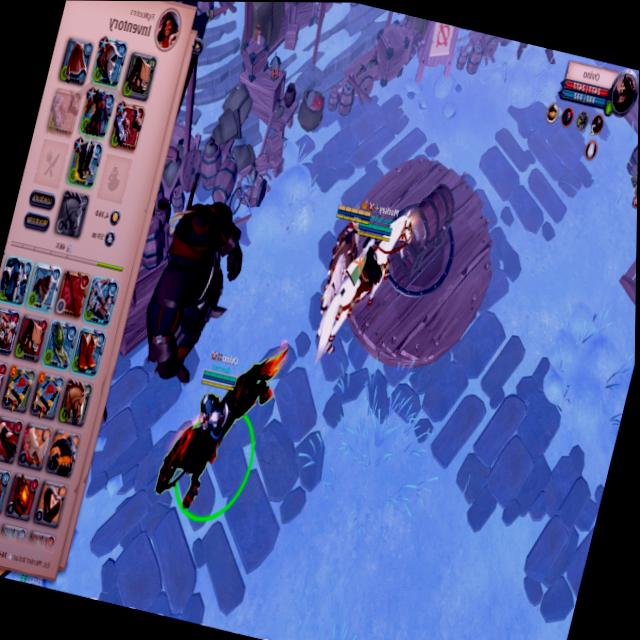red: (142, 321, 292, 540), (302, 184, 422, 385), (307, 184, 380, 323)
